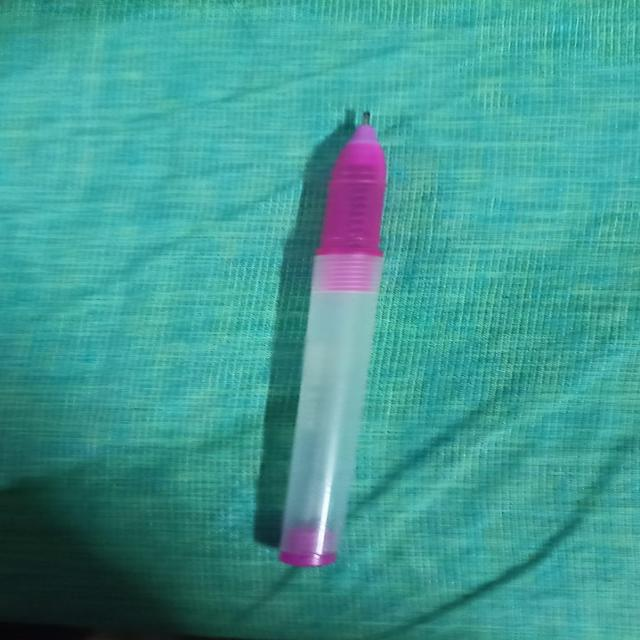pen: (262, 103, 396, 576)
